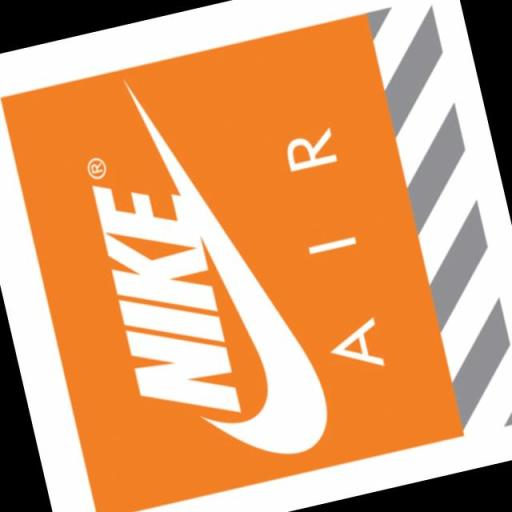Nike: (120, 48, 343, 478), (88, 157, 248, 434)
